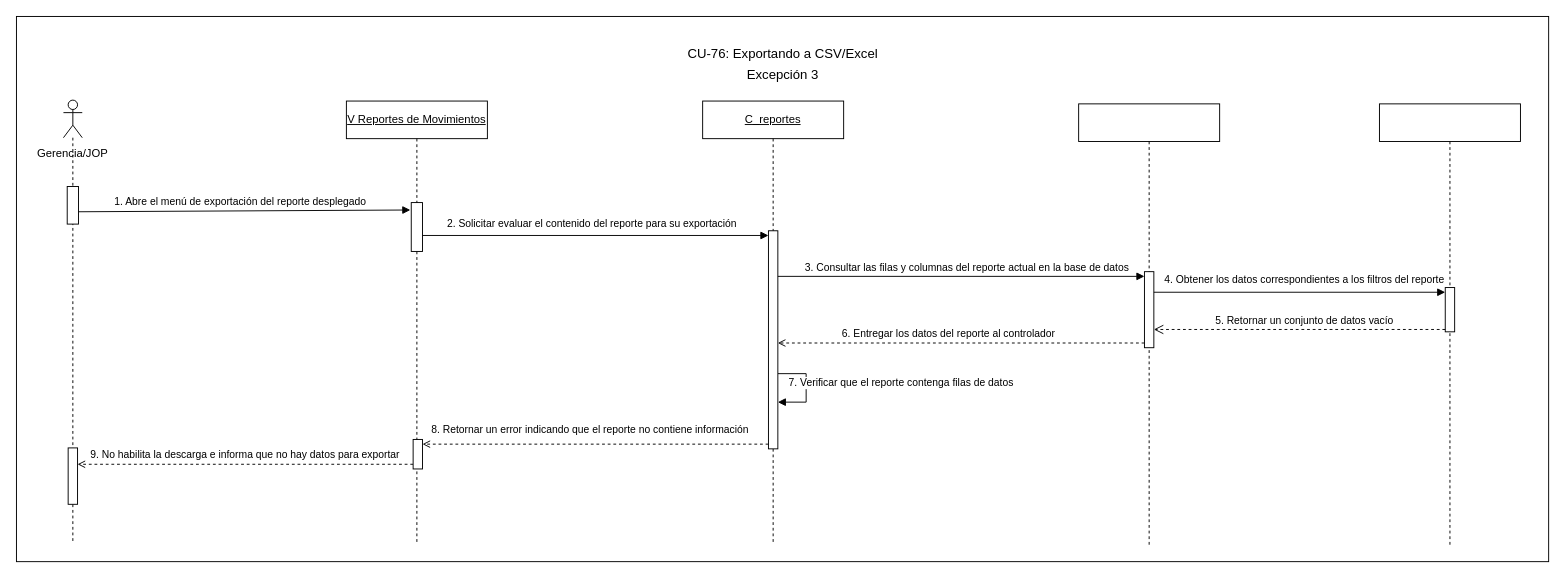
This 1565x578 diagram has some shape labels left out. Each missing label, with the centre of its shape:
"C_Postgre" goes at point 1149,325.
"Reporte" goes at point 1449,325.
